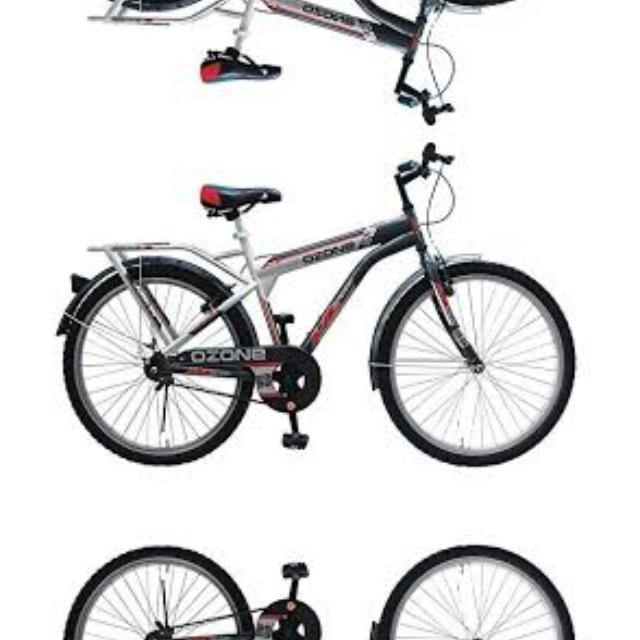obstacle: (41, 137, 604, 496), (41, 0, 604, 129), (41, 515, 604, 640)
